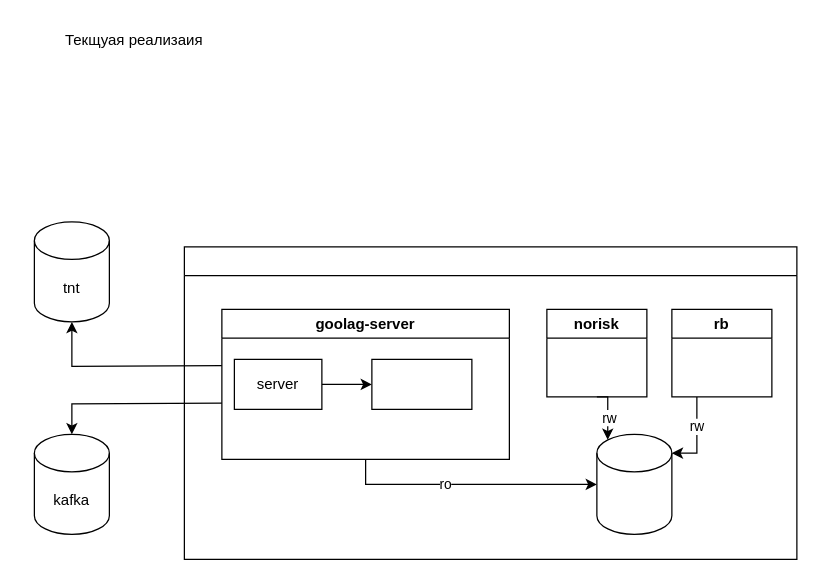
The diagram is 819 pixels wide and 581 high, and some of its shapes have lost their labels. Here are the shapes that lost their labels. From the top down, the box of each, then its label:
(371, 358, 472, 409): render
(183, 246, 797, 559): Pod
(596, 433, 672, 534): volumes
